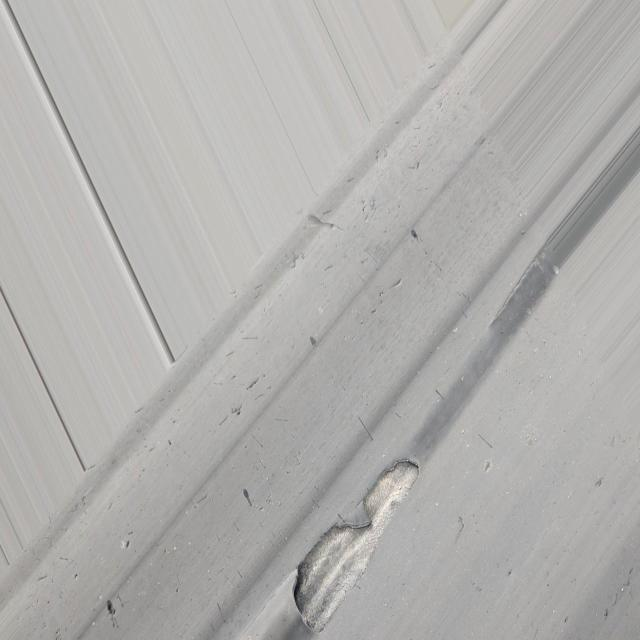Tear: (277, 447, 431, 637)
impact damage: (228, 255, 560, 640)
